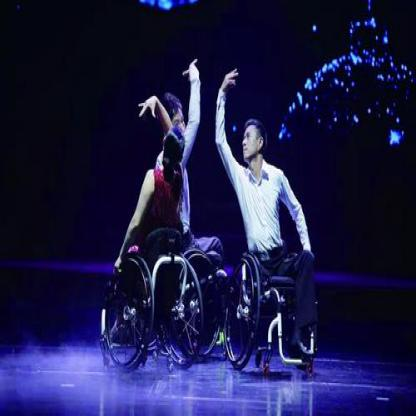wheelchair: (94, 113, 203, 376), (222, 95, 320, 372), (159, 71, 230, 360)
